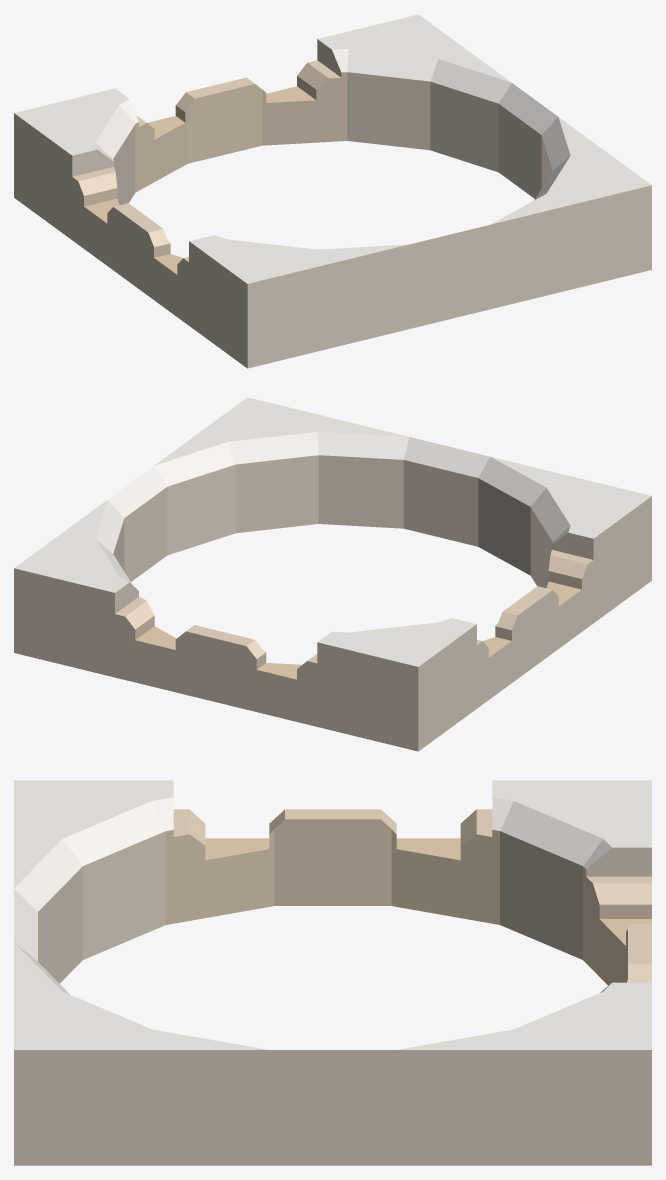
Rendered from Puzzle_Track_Rotating_Housing_Corner.glb.
The picture shows the model from 3 angles, top to bottom: view 1: azimuth 30°, elevation 25°; view 2: azimuth 150°, elevation 25°; view 3: azimuth 270°, elevation 25°; orthographic projection. The views are drawn at different scales.
Parts seen in each view (by area): view 1: Puzzle_Track_Rotating_Housing_Corner; view 2: Puzzle_Track_Rotating_Housing_Corner; view 3: Puzzle_Track_Rotating_Housing_Corner.
Part boxes in pixels (x1=…): Puzzle_Track_Rotating_Housing_Corner: x1=14, y1=14, x2=651, y2=368; Puzzle_Track_Rotating_Housing_Corner: x1=14, y1=397, x2=651, y2=751; Puzzle_Track_Rotating_Housing_Corner: x1=14, y1=780, x2=651, y2=1165.
Bounding box in the file's own units: 1 × 0.2 × 1.
